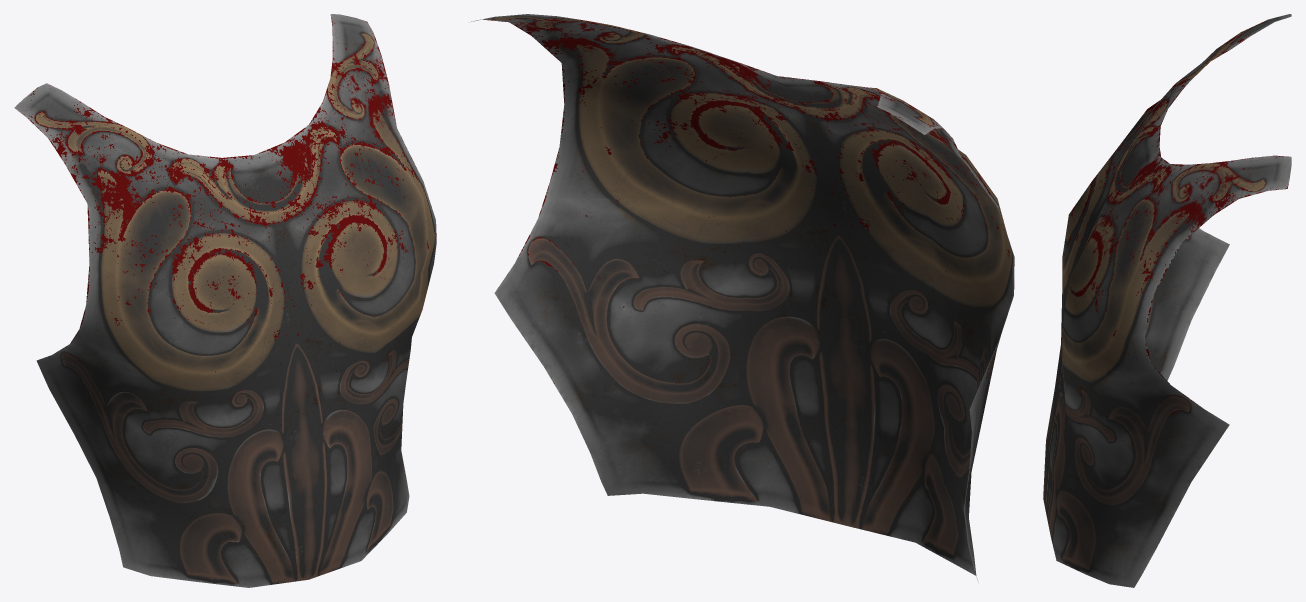
Rendered from armor.glb.
The picture shows the model from 3 angles, left to right: view 1: azimuth 30°, elevation 25°; view 2: azimuth 150°, elevation 25°; view 3: azimuth 270°, elevation 25°; orthographic projection. The views are drawn at different scales.
Visible parts, largest first — view 1: Low; view 2: Low; view 3: Low.
Boxes of the visible parts, left/top/right/bottom form: Low: left=14, top=14, right=436, bottom=587; Low: left=471, top=14, right=1014, bottom=581; Low: left=1043, top=14, right=1291, bottom=587.
Size of the model in its own units: 0.4081 by 0.474 by 0.2377.
1 material, 1 textured.
